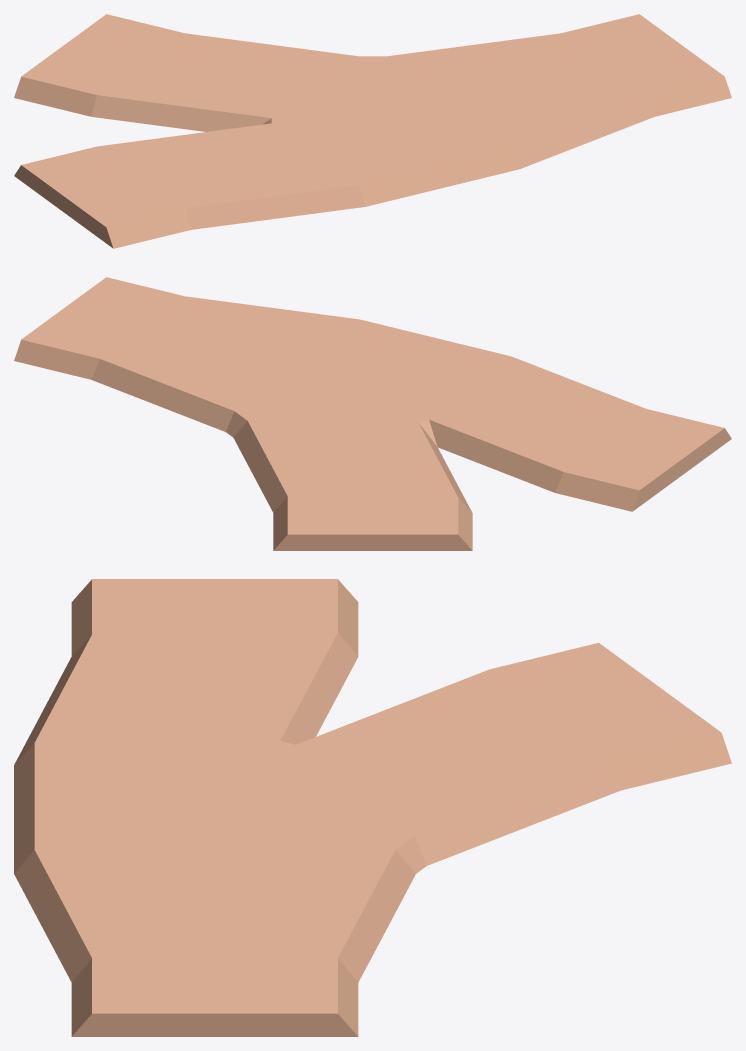
File: path_intersectionC.glb
The picture shows the model from 3 angles, top to bottom: view 1: azimuth 30°, elevation 25°; view 2: azimuth 150°, elevation 25°; view 3: azimuth 270°, elevation 25°; orthographic projection. The views are drawn at different scales.
Visible parts, largest first — view 1: path_intersectionC; view 2: path_intersectionC; view 3: path_intersectionC.
Part boxes in pixels (x1=…): path_intersectionC: x1=14, y1=14, x2=731, y2=248; path_intersectionC: x1=14, y1=277, x2=731, y2=550; path_intersectionC: x1=14, y1=579, x2=731, y2=1036.
Size of the model in its own units: 1 by 0.025 by 0.6983.
